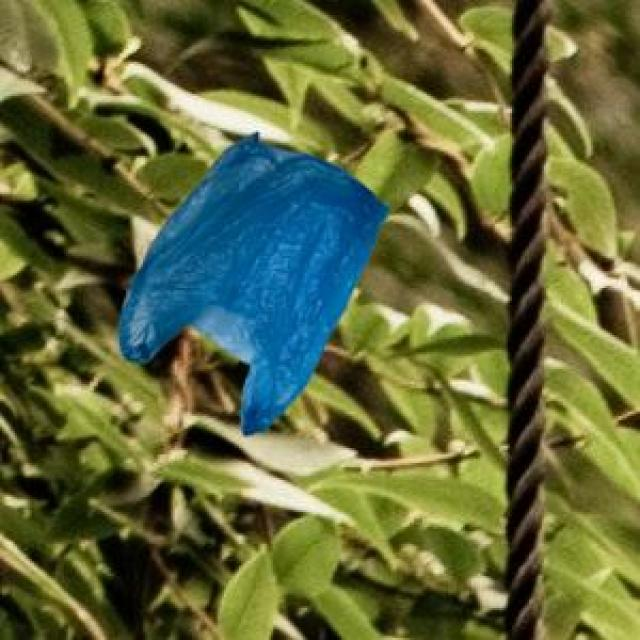plastic: (104, 122, 416, 448)
